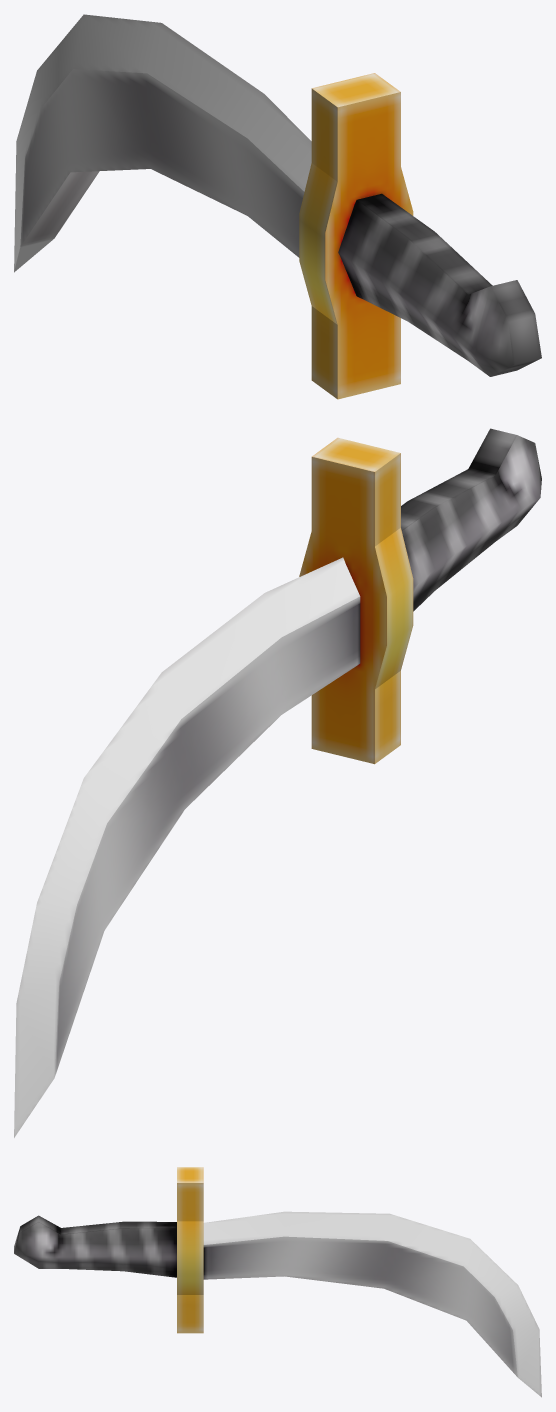
Rendered from sword011.fbx.
3 renders of one model, top to bottom at view 1: azimuth 30°, elevation 25°; view 2: azimuth 150°, elevation 25°; view 3: azimuth 270°, elevation 25°, orthographic. The views are drawn at different scales.
Visible parts, largest first — view 1: sword011; view 2: sword011; view 3: sword011.
Part boxes in pixels (x1,y1,x2,y2): sword011: (14, 14, 541, 399); sword011: (14, 428, 541, 1137); sword011: (14, 1167, 541, 1397).
Bounding box in the file's own units: 0.0584 × 0.2755 × 0.5925.
